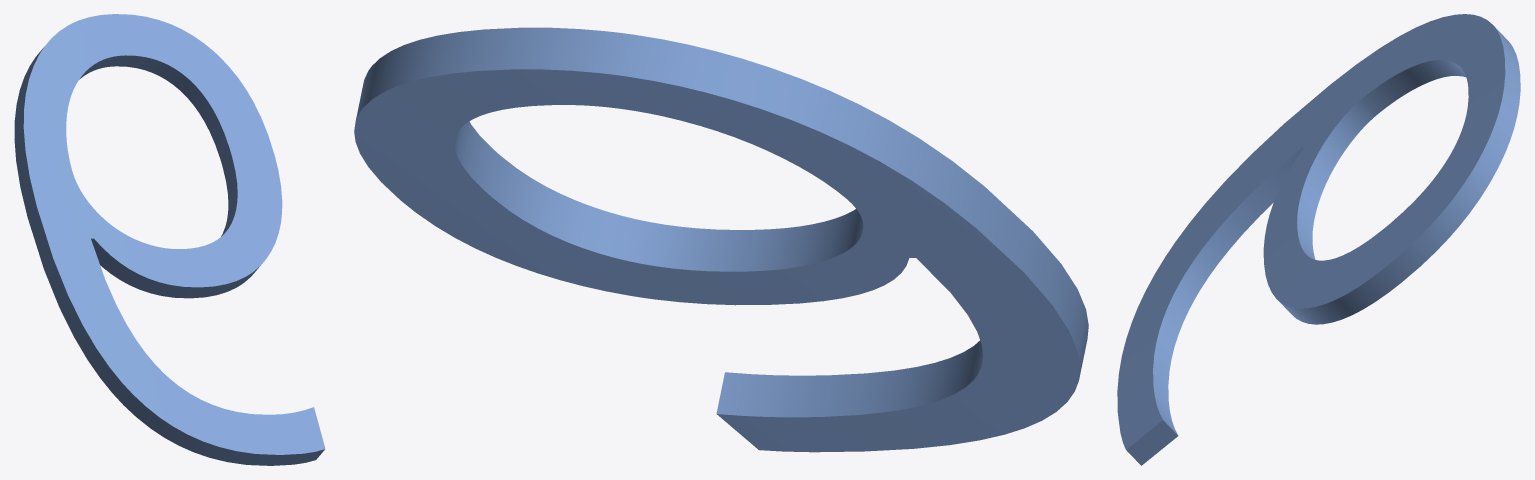
Rendered from New_Number_6.gltf.
3 views of the same model, side by side, from view 1: azimuth 30°, elevation 25°; view 2: azimuth 150°, elevation 25°; view 3: azimuth 270°, elevation 25° (orthographic). The views are drawn at different scales.
Visible parts, largest first — view 1: Part 411; view 2: Part 411; view 3: Part 411.
Part boxes in pixels (box(x1,y1,x2,y2)): Part 411: box(14, 14, 325, 465); Part 411: box(354, 27, 1088, 452); Part 411: box(1117, 14, 1520, 465).
Size of the model in its own units: 0.00367 by 0.00446 by 0.00418.
